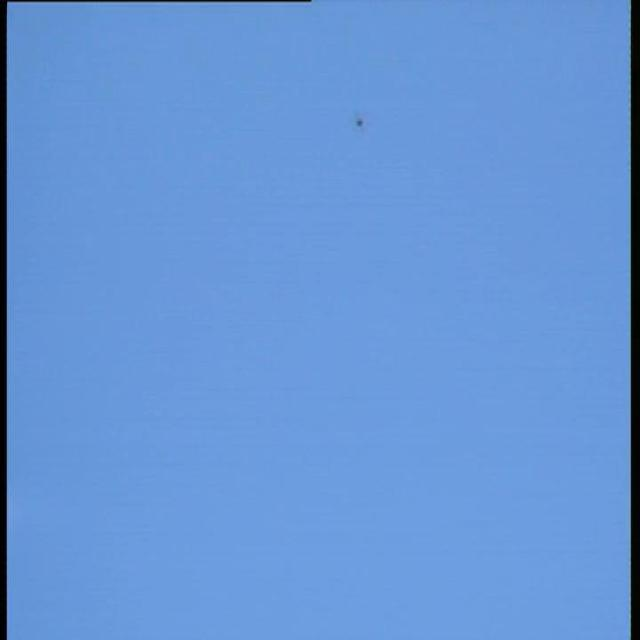drone: (342, 104, 375, 140)
